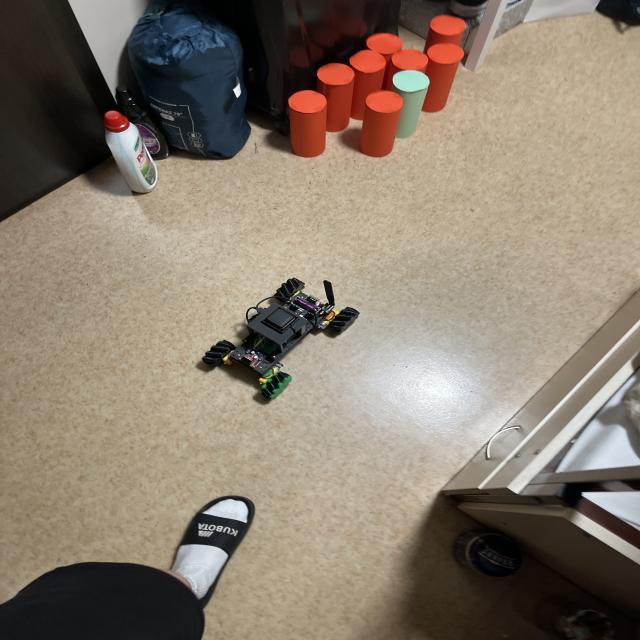robot: (202, 278, 359, 399)
